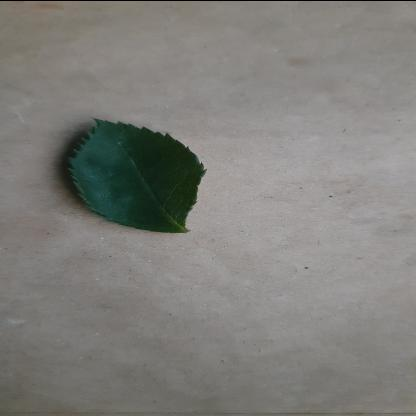normal: (64, 119, 212, 236)
